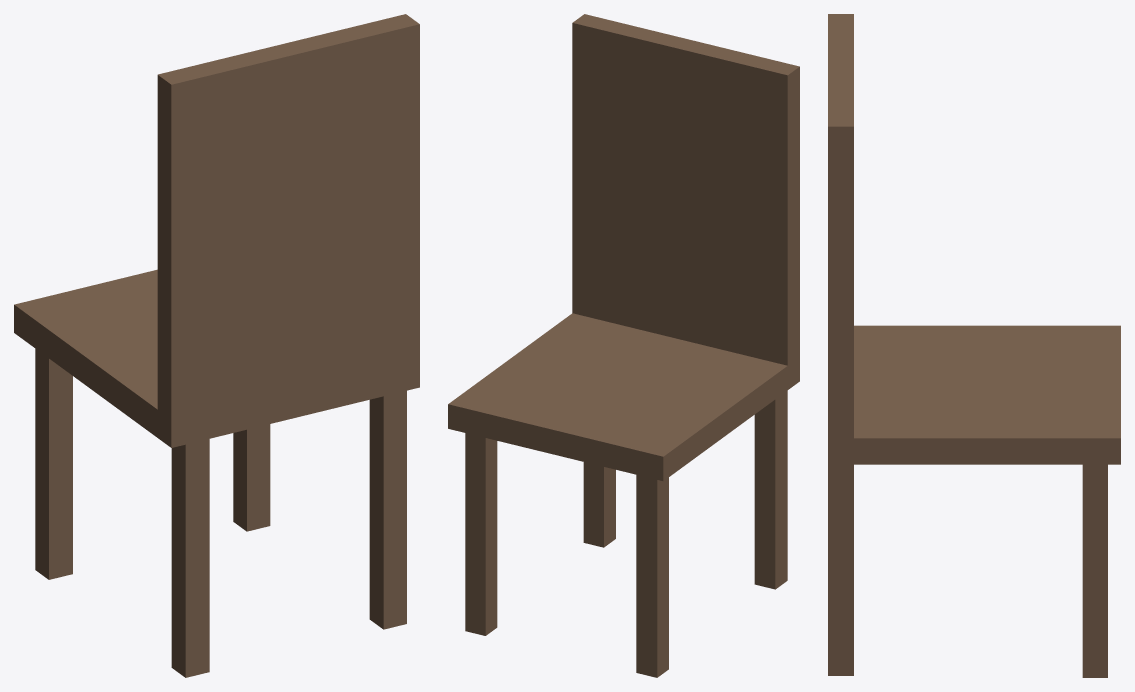
File: chair.fbx
3 views of the same model, side by side, from view 1: azimuth 30°, elevation 25°; view 2: azimuth 150°, elevation 25°; view 3: azimuth 270°, elevation 25° (orthographic). The views are drawn at different scales.
Parts seen in each view (by area): view 1: Chair; view 2: Chair; view 3: Chair.
Boxes of the visible parts, x1,y1,x2,y2 form: Chair: [14, 14, 419, 677]; Chair: [448, 14, 799, 677]; Chair: [828, 14, 1120, 677].
Size of the model in its own units: 93.98 by 216 by 103.
